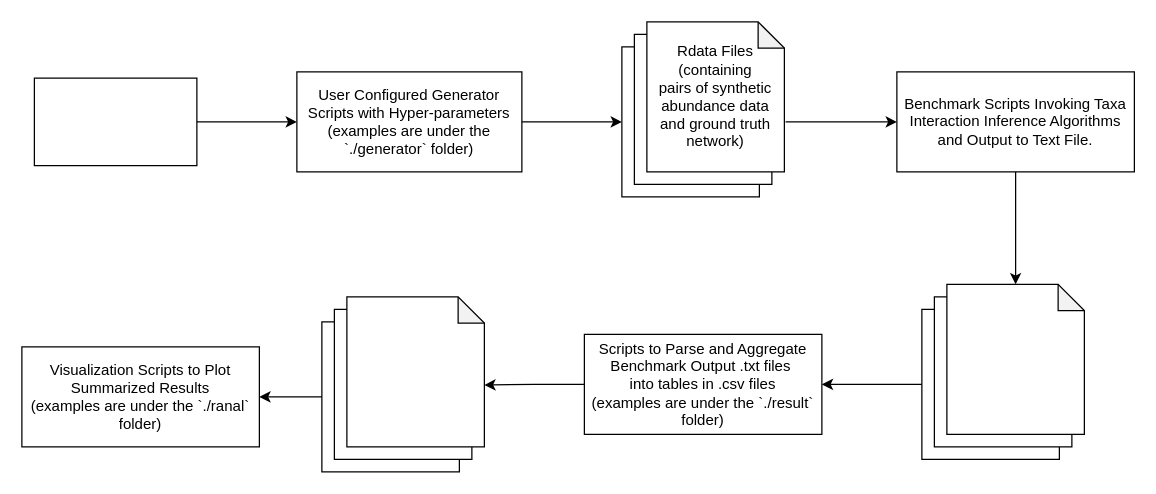
The diagram is 1156 pixels wide and 494 high, and some of its shapes have lost their labels. Here are the shapes that lost their labels. From the top down, the box of each, then its label:
(33, 77, 197, 166): SPLANG R package
(346, 296, 484, 447): Summarized Results in .csv files
(946, 283, 1084, 434): Benchmark Output in .txt files
